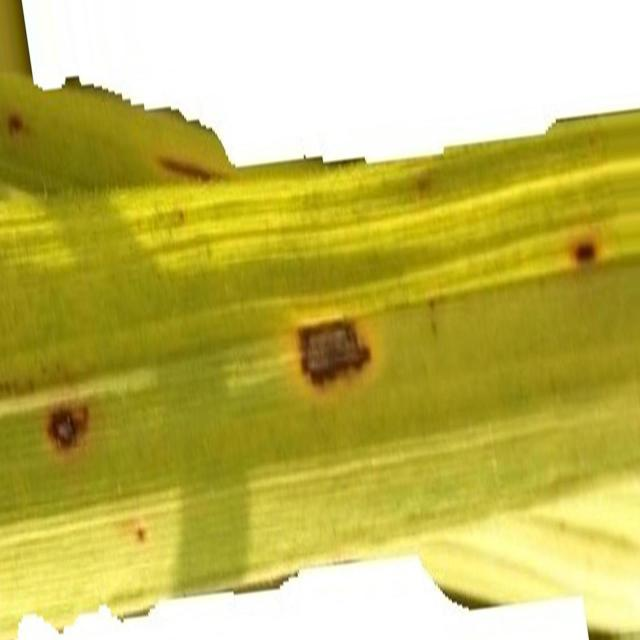Brown_Spot: (299, 320, 370, 384), (48, 404, 89, 449), (574, 240, 596, 262)
